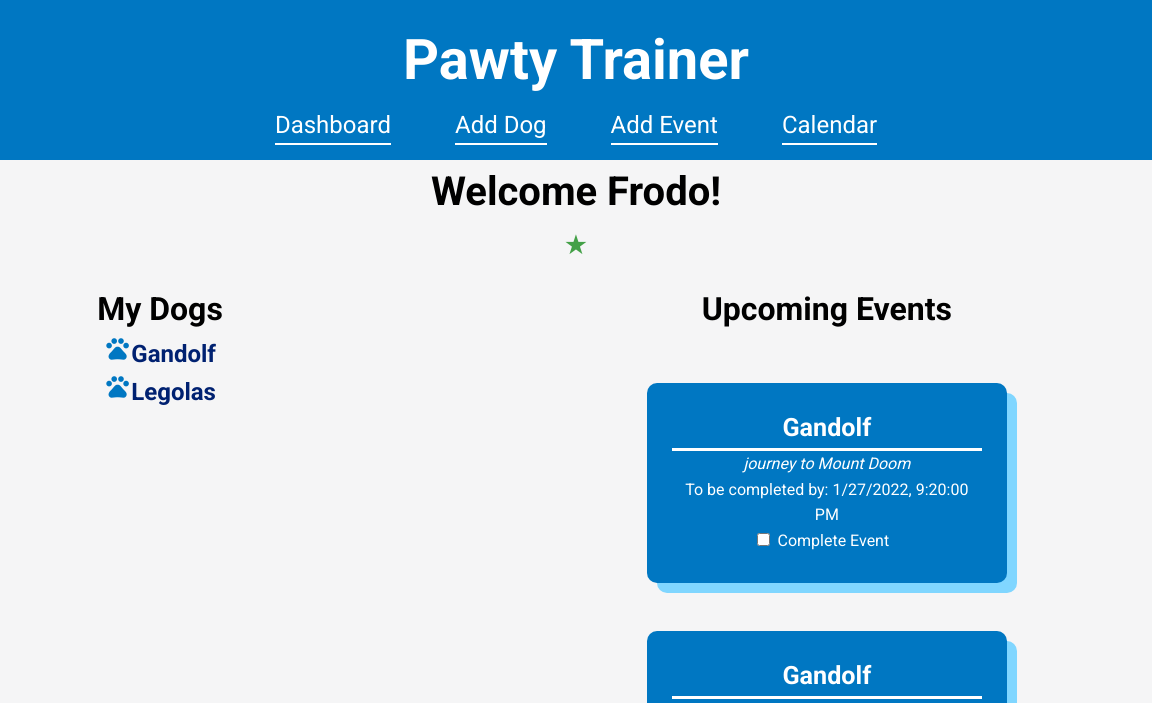
Test: Dashboard View › Clicking on a dog should take the user to a dog details page
The image size is (1152, 703).
Click the link "Gandolf": (174, 354) [131,340,216,368]
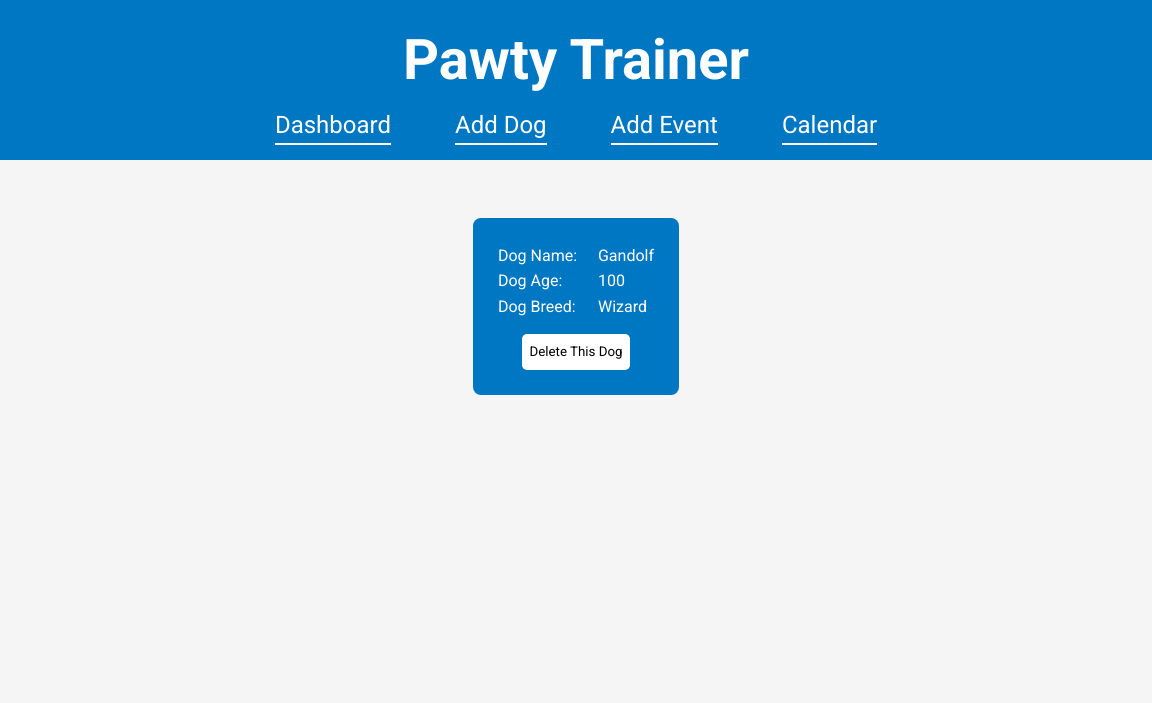
Expected: the text "Wizard" is shown, [598,294,654,320]
